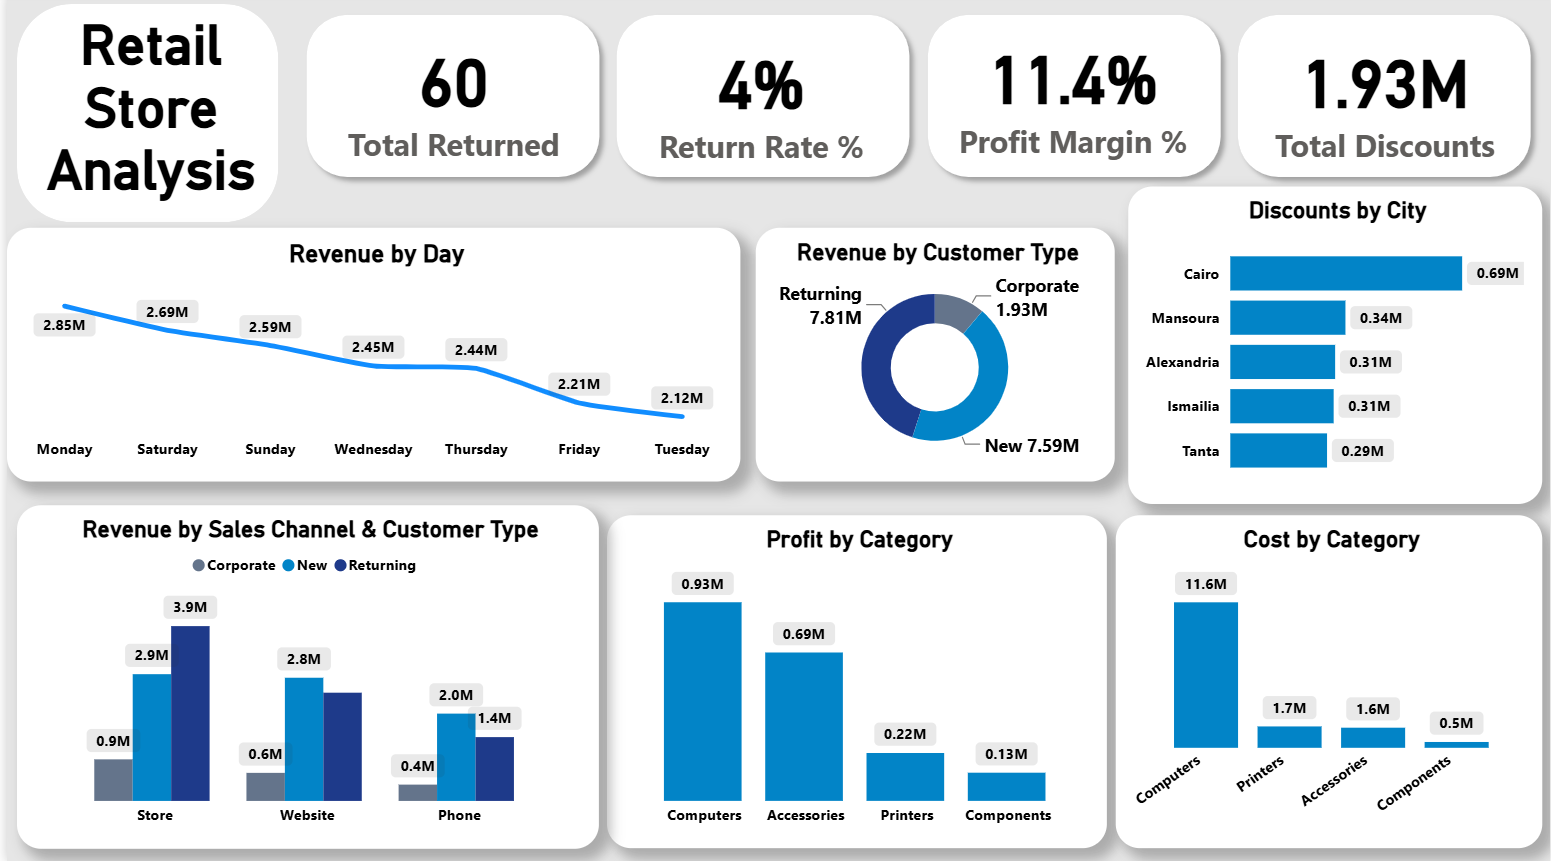

The page's visual inventory and layout, read from the dashboard file:
{"tool":"powerbi","page":{"name":"Financial Analysis","canvas":[1280,720],"ordinal":1},"visuals":[{"type":"shape","box":[496.8,8.3,260.7,152.4],"z":0},{"type":"shape","box":[239.3,8.3,260.7,152.4],"z":1000},{"type":"shape","box":[8.3,8.3,216.7,181],"z":2000},{"type":"textbox","title":"Retail Store Analysis","box":[0,15.5,239.3,189.3],"z":3000},{"type":"card","fields":{"Values":["Measures (2).Total Returned"]},"box":[251.2,0,239.3,167.9],"z":4000},{"type":"shape","box":[1011.9,8.3,260.7,152.4],"z":5000},{"type":"shape","box":[754.4,8.3,260.7,152.4],"z":6000},{"type":"card","fields":{"Values":["Measures (2).Return Rate %"]},"box":[506,0,239.3,171.4],"z":7000},{"type":"card","fields":{"Values":["Measures (2).Profit Margin %"]},"box":[760.7,0,246.4,163.1],"z":8000},{"type":"card","fields":{"Values":["Measures (2).Total Discounts Given"]},"box":[1022.6,0,239.3,169],"z":9000},{"type":"columnChart","title":"Profit by Category","fields":{"Category":["data_detective_sales_training.Category"],"Y":["Measures (2).Total Profit"]},"box":[497.6,432.1,414.3,276.2],"z":10000},{"type":"lineChart","title":"Total Revenue by Day","fields":{"Category":["data_detective_sales_training.Day"],"Y":["Measures (2).Total Revenue"]},"box":[0,194,608.3,210.7],"z":11000},{"type":"clusteredColumnChart","title":"Revenue by Sales Channel & Customer Type","fields":{"Y":["Measures (2).Total Revenue"],"Series":["data_detective_sales_training.Customer_Type"],"Category":["data_detective_sales_training.Sales_Channel"]},"box":[8.3,423.8,482.1,284.5],"z":12000},{"type":"donutChart","title":"Revenue by Customer Type","fields":{"Y":["Measures (2).Total Revenue"],"Series":["data_detective_sales_training.Customer_Type"]},"box":[620.2,194,297.6,210.7],"z":13000},{"type":"barChart","title":"Discounts by City","fields":{"Y":["Measures (2).Total Discounts"],"Category":["data_detective_sales_training.Branch"]},"box":[929.8,159.5,342.9,263.1],"z":14000},{"type":"columnChart","title":"Cost by Category","fields":{"Category":["data_detective_sales_training.Category"],"Y":["Measures (2).Total Costs"]},"box":[919.1,432.1,353.6,276.2],"z":15000}]}

Visuals, with their boxes in screenshot pixels (x1, y1, x2, y2), scaled from the page's 1280x720 canvas onto the 1551x861 screenshot:
shape: (602, 10, 918, 192)
shape: (290, 10, 606, 192)
shape: (10, 10, 273, 226)
"Retail Store Analysis" textbox: (0, 19, 290, 245)
card - Measures (2).Total Returned: (304, 0, 594, 201)
shape: (1226, 10, 1542, 192)
shape: (914, 10, 1230, 192)
card - Measures (2).Return Rate %: (613, 0, 903, 205)
card - Measures (2).Profit Margin %: (922, 0, 1220, 195)
card - Measures (2).Total Discounts Given: (1239, 0, 1529, 202)
"Profit by Category" columnChart: (603, 517, 1105, 847)
"Total Revenue by Day" lineChart: (0, 232, 737, 484)
"Revenue by Sales Channel & Customer Type" clusteredColumnChart: (10, 507, 594, 847)
"Revenue by Customer Type" donutChart: (752, 232, 1112, 484)
"Discounts by City" barChart: (1127, 191, 1542, 505)
"Cost by Category" columnChart: (1114, 517, 1542, 847)
